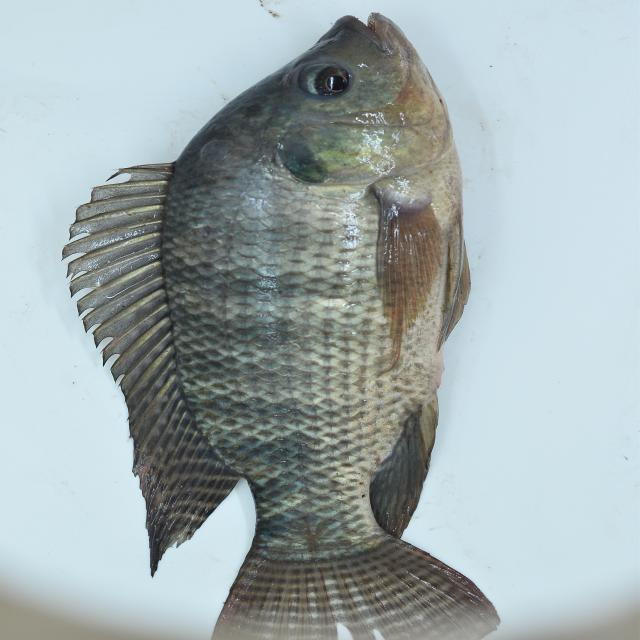Healthy Fish: (64, 11, 485, 640)
